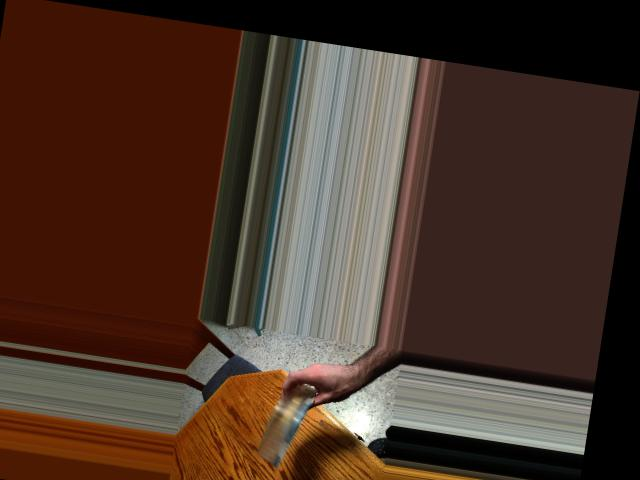cheese: (260, 370, 309, 471)
